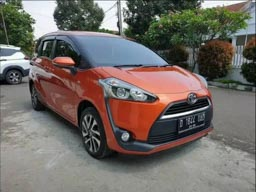plat: (178, 112, 205, 133)
